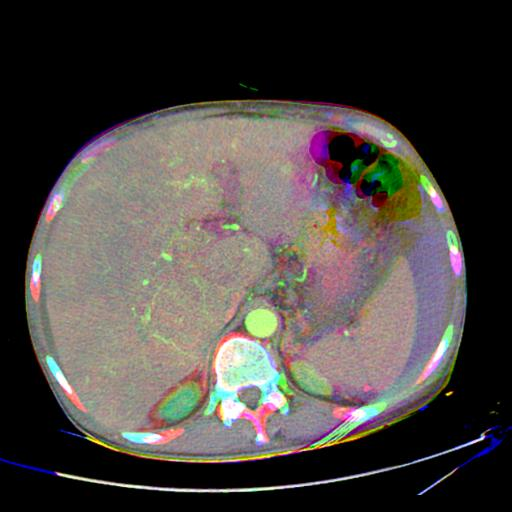Tumor: (212, 161, 244, 213)
